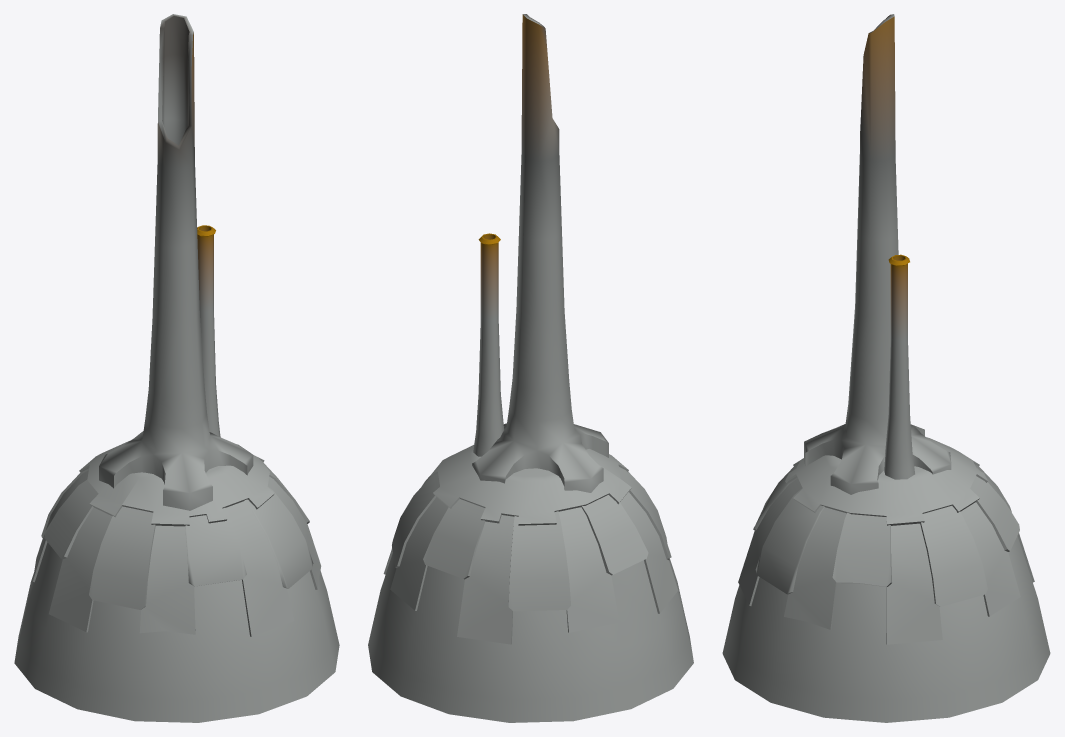
The picture shows the model from 3 angles, left to right: view 1: azimuth 30°, elevation 25°; view 2: azimuth 150°, elevation 25°; view 3: azimuth 270°, elevation 25°; orthographic projection.
Parts seen in each view (by area): view 1: G:\FFXIV-MapTools\exports\n4f2\bg\ex3\01_nvt_n4\fld\n4f2\bgp (×7); view 2: G:\FFXIV-MapTools\exports\n4f2\bg\ex3\01_nvt_n4\fld\n4f2\bgp (×6); view 3: G:\FFXIV-MapTools\exports\n4f2\bg\ex3\01_nvt_n4\fld\n4f2\bgp (×6).
Boxes of the visible parts, box(x1,y1,x2,y2) form: G:\FFXIV-MapTools\exports\n4f2\bg\ex3\01_nvt_n4\fld\n4f2\bgp (×7): box(14, 14, 339, 722); G:\FFXIV-MapTools\exports\n4f2\bg\ex3\01_nvt_n4\fld\n4f2\bgp (×6): box(368, 14, 693, 722); G:\FFXIV-MapTools\exports\n4f2\bg\ex3\01_nvt_n4\fld\n4f2\bgp (×6): box(722, 15, 1050, 722).
Bounding box in the file's own units: 7.5 × 16.08 × 7.5.
